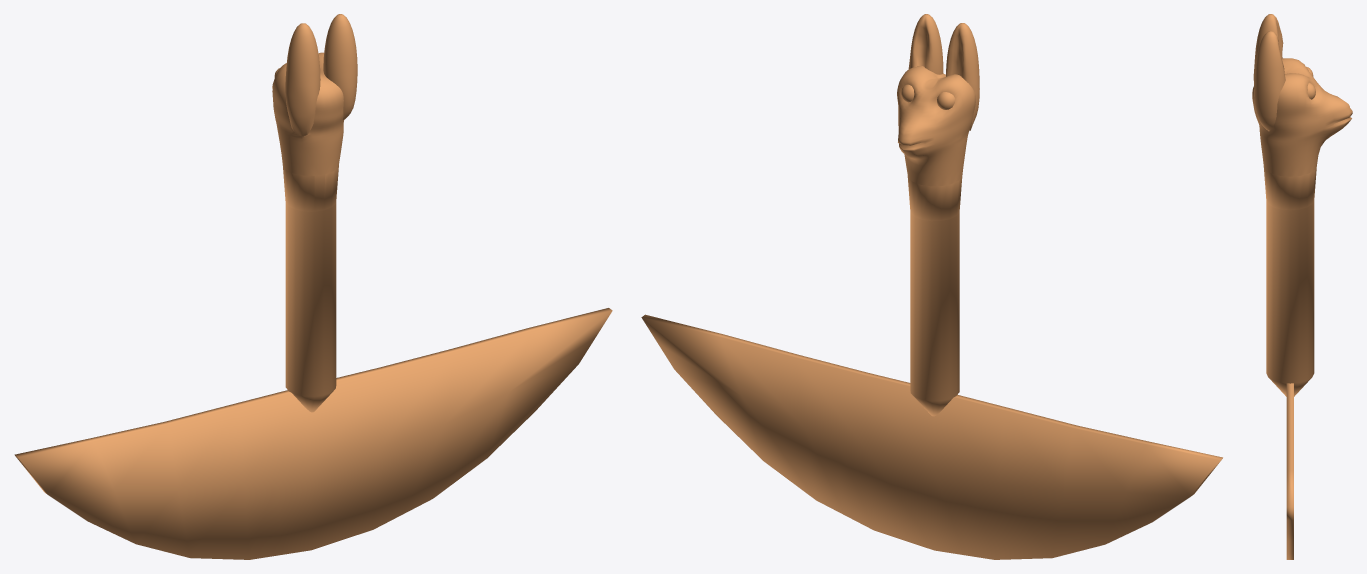
File: Artifact1Improved.fbx
3 views of the same model, side by side, from view 1: azimuth 30°, elevation 25°; view 2: azimuth 150°, elevation 25°; view 3: azimuth 270°, elevation 25° (orthographic). The views are drawn at different scales.
Parts seen in each view (by area): view 1: Artifact; view 2: Artifact; view 3: Artifact.
Part boxes in pixels (x1,y1,x2,y2): Artifact: (14,14,612,559); Artifact: (641,14,1222,559); Artifact: (1252,14,1352,559).
Size of what is drawn, in the model's own units: 93.17 by 80.42 by 14.55.
